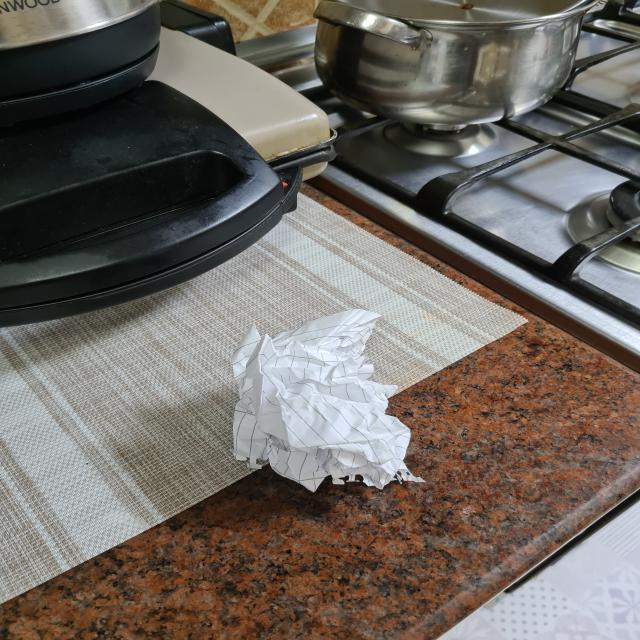Paper: (225, 307, 415, 486)
